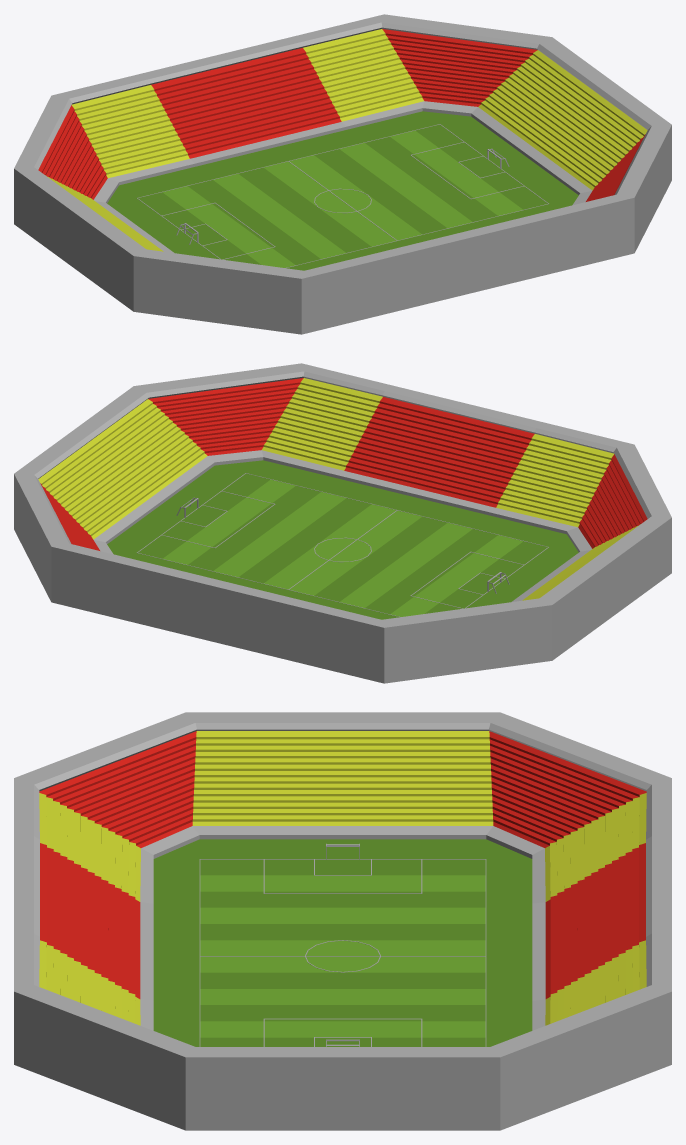
The model's file is Football_Peach.fbx.
3 renders of one model, top to bottom at view 1: azimuth 30°, elevation 25°; view 2: azimuth 150°, elevation 25°; view 3: azimuth 270°, elevation 25°, orthographic. The views are drawn at different scales.
Visible parts, largest first — view 1: Football_peach; view 2: Football_peach; view 3: Football_peach.
Part boxes in pixels (x1,y1,x2,y2): Football_peach: (14, 14, 671, 334); Football_peach: (14, 363, 671, 683); Football_peach: (14, 712, 671, 1130).
Size of the model in its own units: 5747 by 569 by 4631.
